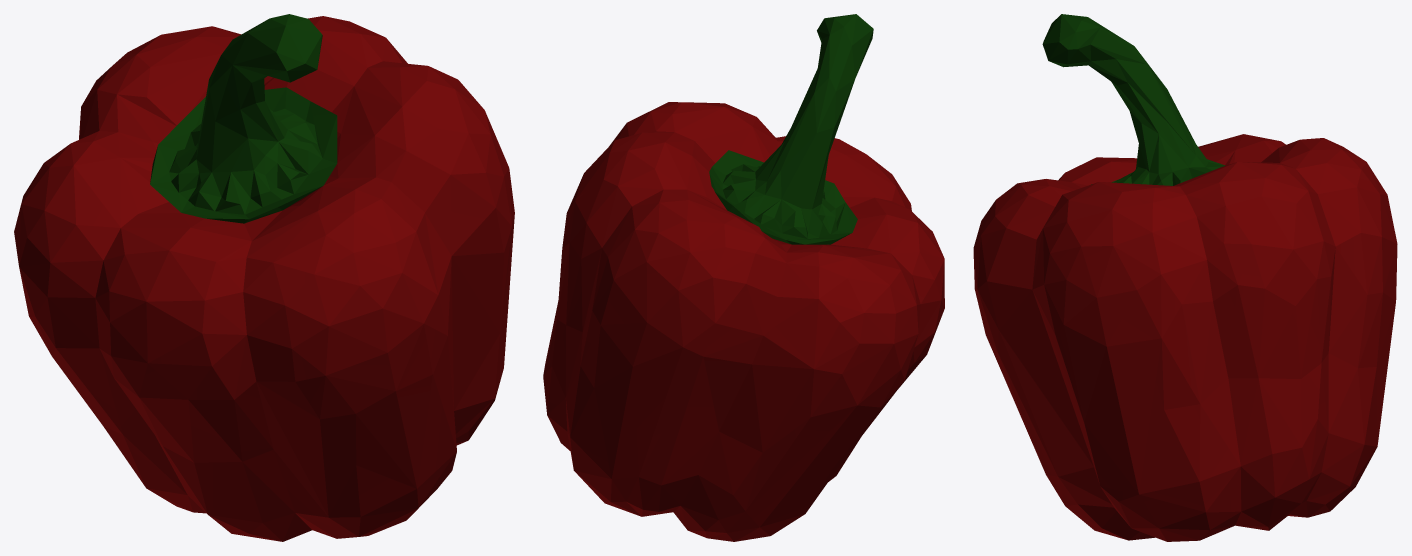
The model's file is BellPepperRed_lowpoly.obj.
The picture shows the model from 3 angles, left to right: view 1: azimuth 30°, elevation 25°; view 2: azimuth 150°, elevation 25°; view 3: azimuth 270°, elevation 25°; orthographic projection. The views are drawn at different scales.
Parts seen in each view (by area): view 1: Mesh1.001; view 2: Mesh1.001; view 3: Mesh1.001.
Part boxes in pixels (x1,y1,x2,y2): Mesh1.001: (14,14,514,541); Mesh1.001: (543,14,944,541); Mesh1.001: (973,14,1397,541).
Size of the model in its own units: 0.7839 by 0.9932 by 0.7877.
